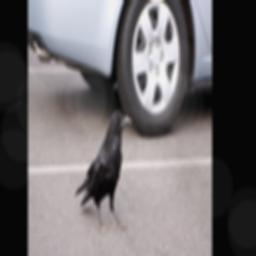Crow: (74, 107, 131, 231)
